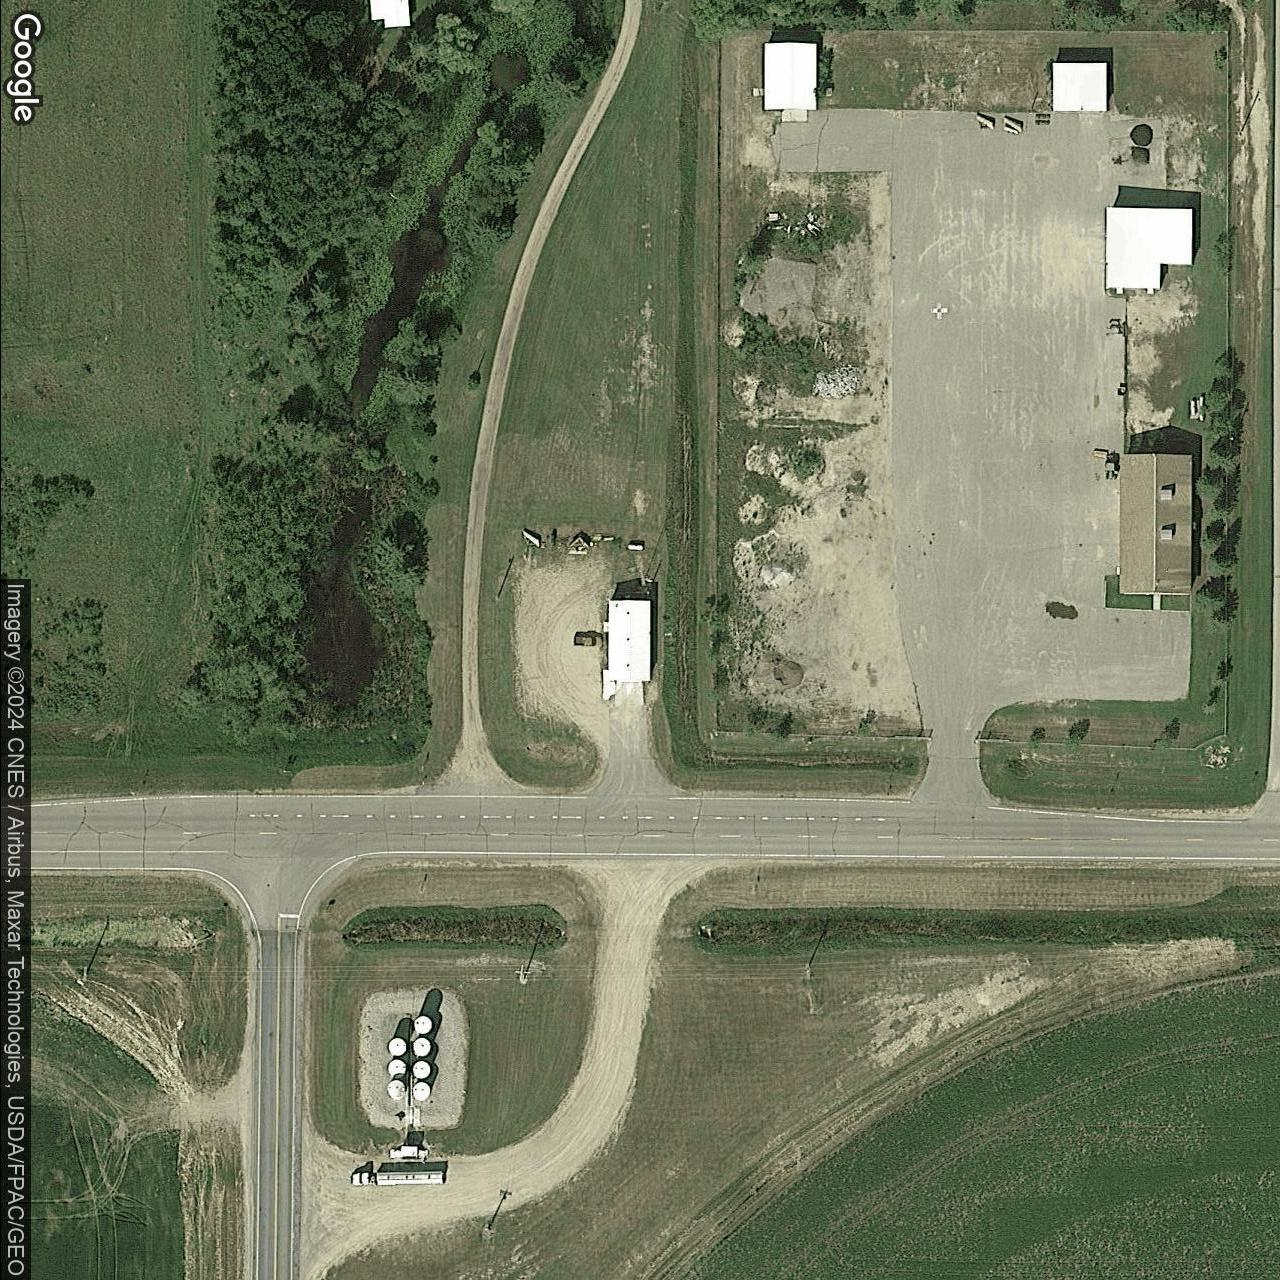House: (1117, 452, 1192, 595), (599, 600, 648, 701), (368, 0, 410, 28)
Other: (1103, 206, 1193, 290), (762, 43, 817, 111), (1051, 62, 1107, 113)
Propane: (1196, 394, 1205, 422), (626, 540, 644, 551), (1187, 397, 1196, 420)
